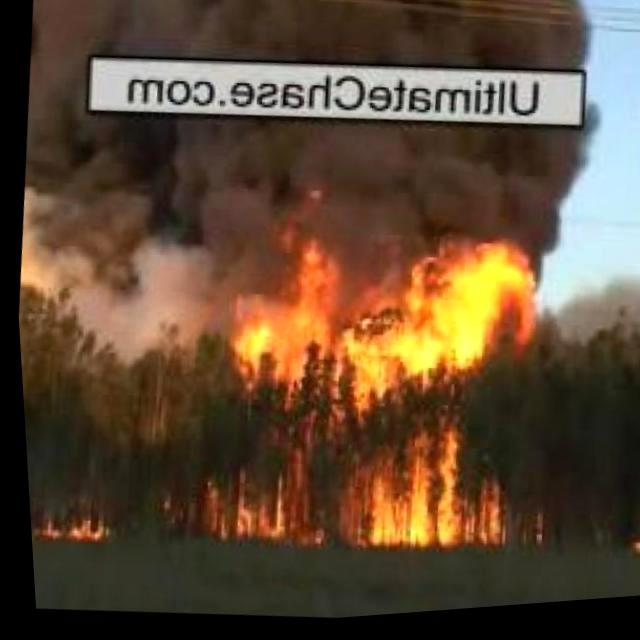fire: (176, 213, 552, 575), (29, 497, 105, 548)
